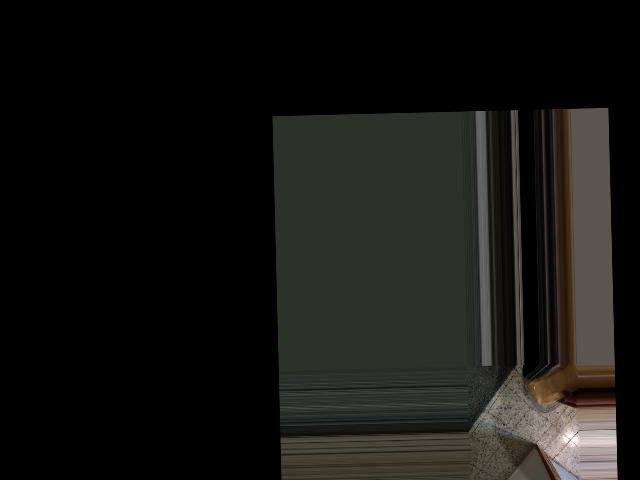cheese: (524, 362, 579, 412)
